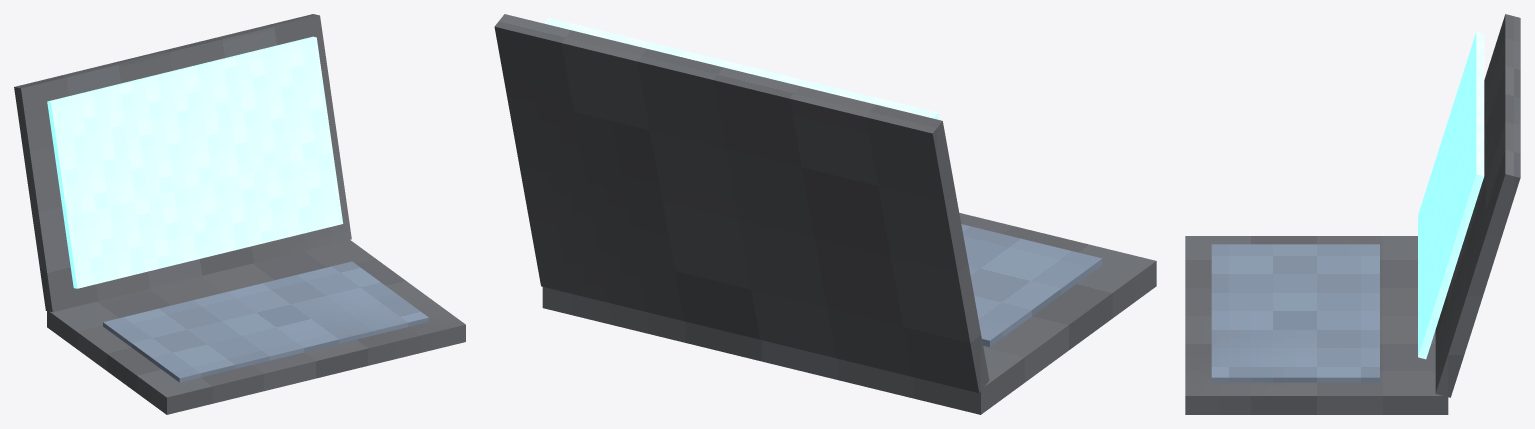
Rendered from pixel-modern-office-laptop-open-5a454819.glb.
The picture shows the model from 3 angles, left to right: view 1: azimuth 30°, elevation 25°; view 2: azimuth 150°, elevation 25°; view 3: azimuth 270°, elevation 25°; orthographic projection. The views are drawn at different scales.
Parts seen in each view (by area): view 1: laptop-open; view 2: laptop-open; view 3: laptop-open.
Boxes of the visible parts, left/top/right/bottom form: laptop-open: left=14, top=14, right=465, bottom=414; laptop-open: left=494, top=14, right=1156, bottom=414; laptop-open: left=1185, top=14, right=1520, bottom=414.
Size of the model in its own units: 0.36 by 0.2527 by 0.3186.
Materials: 3 (3 with a texture image).
